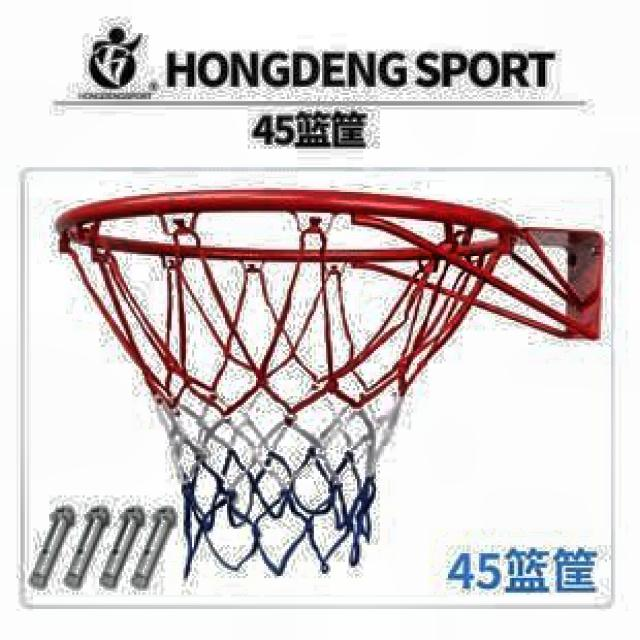rim: (58, 193, 514, 565)
